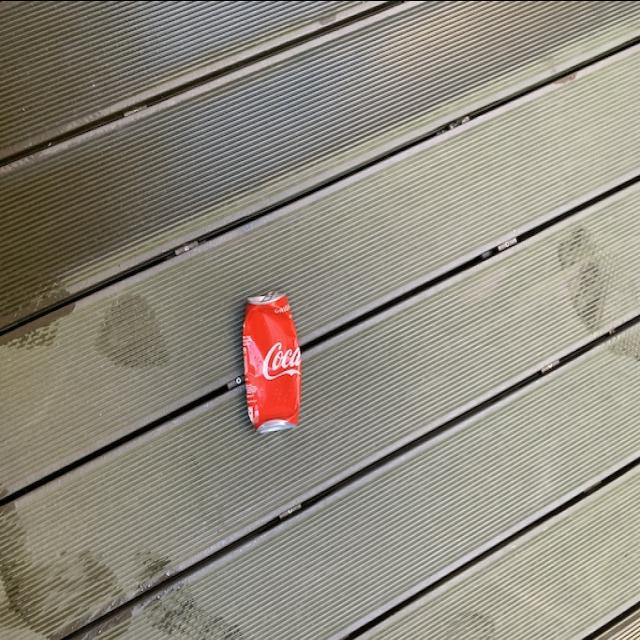litter: (228, 283, 328, 452)
